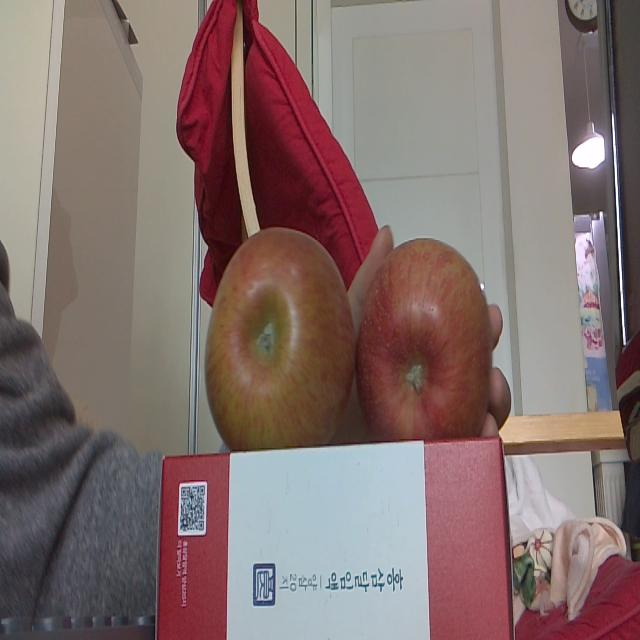apple: (206, 227, 354, 449), (359, 237, 491, 442)
